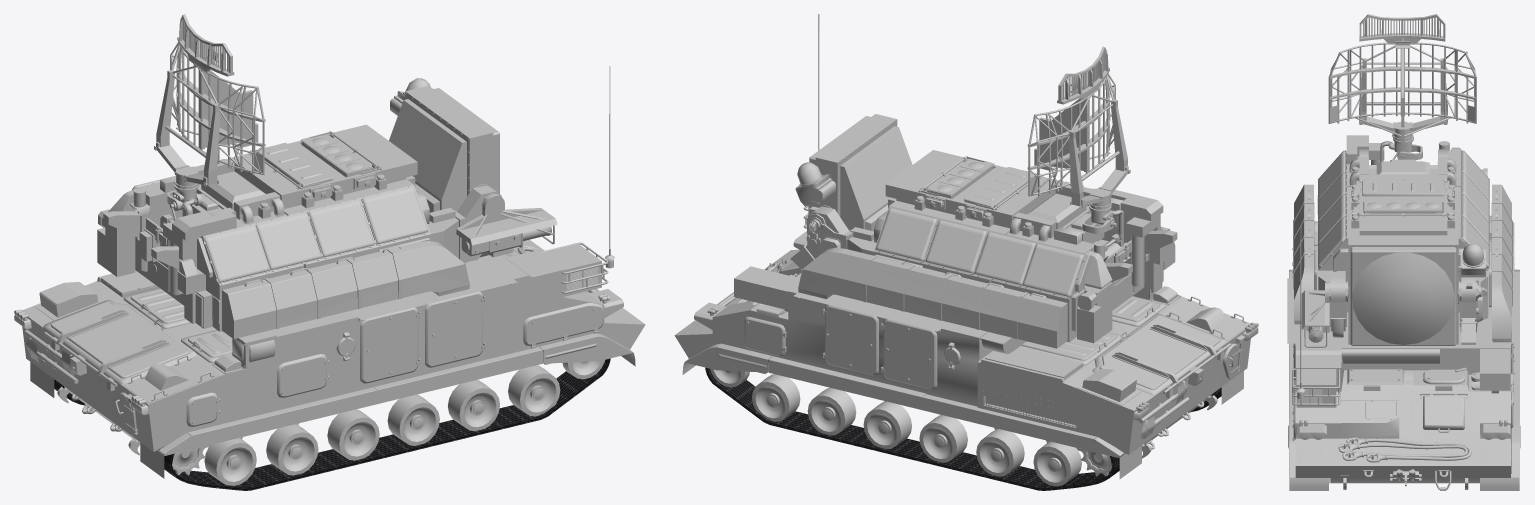
3 views of the same model, side by side, from view 1: azimuth 30°, elevation 25°; view 2: azimuth 150°, elevation 25°; view 3: azimuth 270°, elevation 25° (orthographic). The views are drawn at different scales.
Parts seen in each view (by area): view 1: SA_15_01, SA_15_02, SA_15_04, SA15_Track, Object001_Elements13, Object001_Elements14, Object001_Elements15, Object001_Elements16, Object001_Elements17, Object001_Elements12, SA_15_03; view 2: SA_15_01, SA_15_02, SA_15_04, SA15_Track, Object001_Elements6, Object001_Elements5, Object001_Elements7, Object001_Elements4, Object001_Elements8, Object001_Elements3, SA_15_03; view 3: SA_15_02, SA_15_01, SA_15_04, SA_15_03.
Part boxes in pixels (left/top/right/bottom): SA_15_01: left=14, top=66, right=645, bottom=478; SA_15_02: left=97, top=78, right=557, bottom=338; SA_15_04: left=154, top=14, right=265, bottom=188; SA15_Track: left=54, top=347, right=610, bottom=490; Object001_Elements13: left=266, top=424, right=318, bottom=475; Object001_Elements14: left=327, top=409, right=379, bottom=460; Object001_Elements15: left=387, top=394, right=439, bottom=445; Object001_Elements16: left=447, top=380, right=499, bottom=431; Object001_Elements17: left=508, top=365, right=560, bottom=416; Object001_Elements12: left=204, top=438, right=256, bottom=485; SA_15_03: left=250, top=142, right=333, bottom=189; SA_15_01: left=674, top=14, right=1258, bottom=479; SA_15_02: left=790, top=114, right=1177, bottom=348; SA_15_04: left=1027, top=46, right=1130, bottom=208; SA15_Track: left=705, top=356, right=1221, bottom=490; Object001_Elements6: left=863, top=401, right=911, bottom=449; Object001_Elements5: left=919, top=415, right=967, bottom=462; Object001_Elements7: left=807, top=388, right=856, bottom=435; Object001_Elements4: left=976, top=429, right=1024, bottom=476; Object001_Elements8: left=752, top=374, right=800, bottom=421; Object001_Elements3: left=1033, top=441, right=1081, bottom=486; SA_15_03: left=964, top=167, right=1041, bottom=210; SA_15_02: left=1293, top=135, right=1512, bottom=347; SA_15_01: left=1287, top=215, right=1520, bottom=490; SA_15_04: left=1328, top=14, right=1476, bottom=145; SA_15_03: left=1359, top=180, right=1447, bottom=196.
Bounding box in the file's own units: 5.67 × 4.37 × 2.62.
